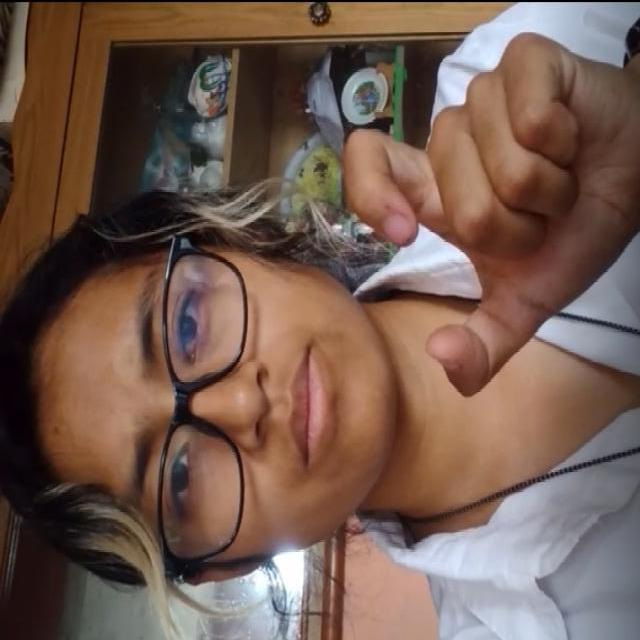X: (332, 6, 640, 424)
